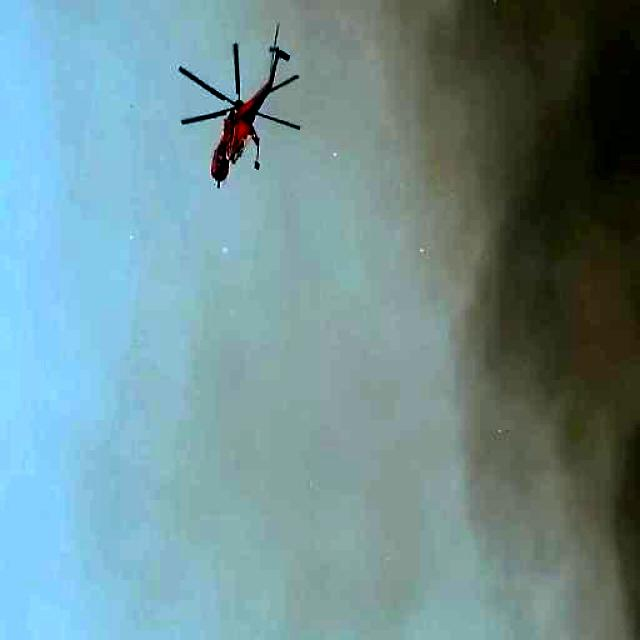drone: (164, 0, 316, 196)
